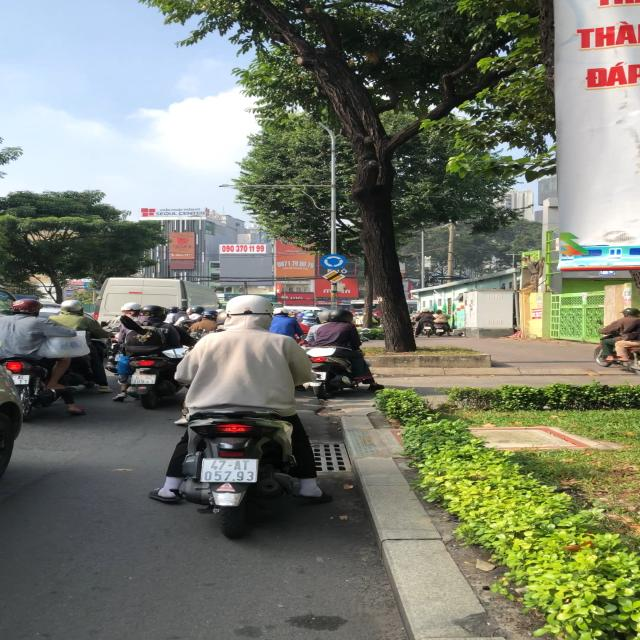Bien bao noi giao nhau chay theo vong xuyen: (319, 253, 350, 270)
